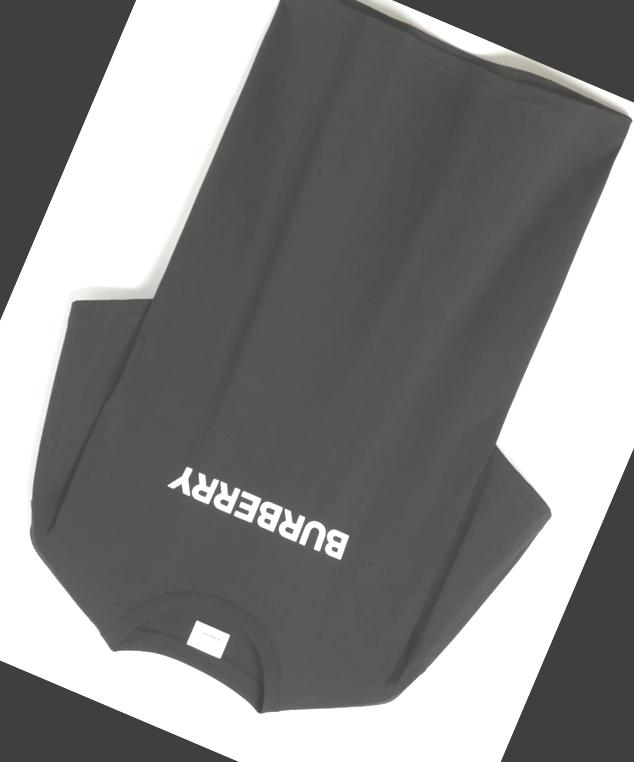BURBERRY: (165, 460, 350, 560)
